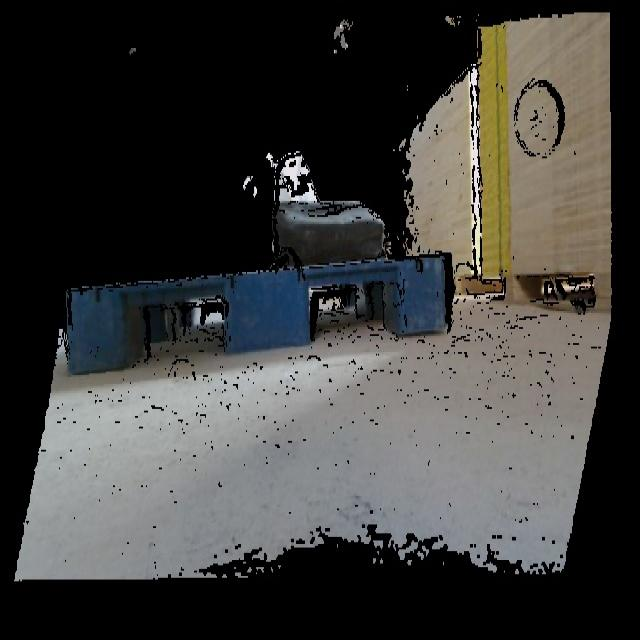block: (228, 269, 312, 354), (64, 279, 132, 377), (394, 252, 449, 337)
front: (64, 251, 461, 378)
